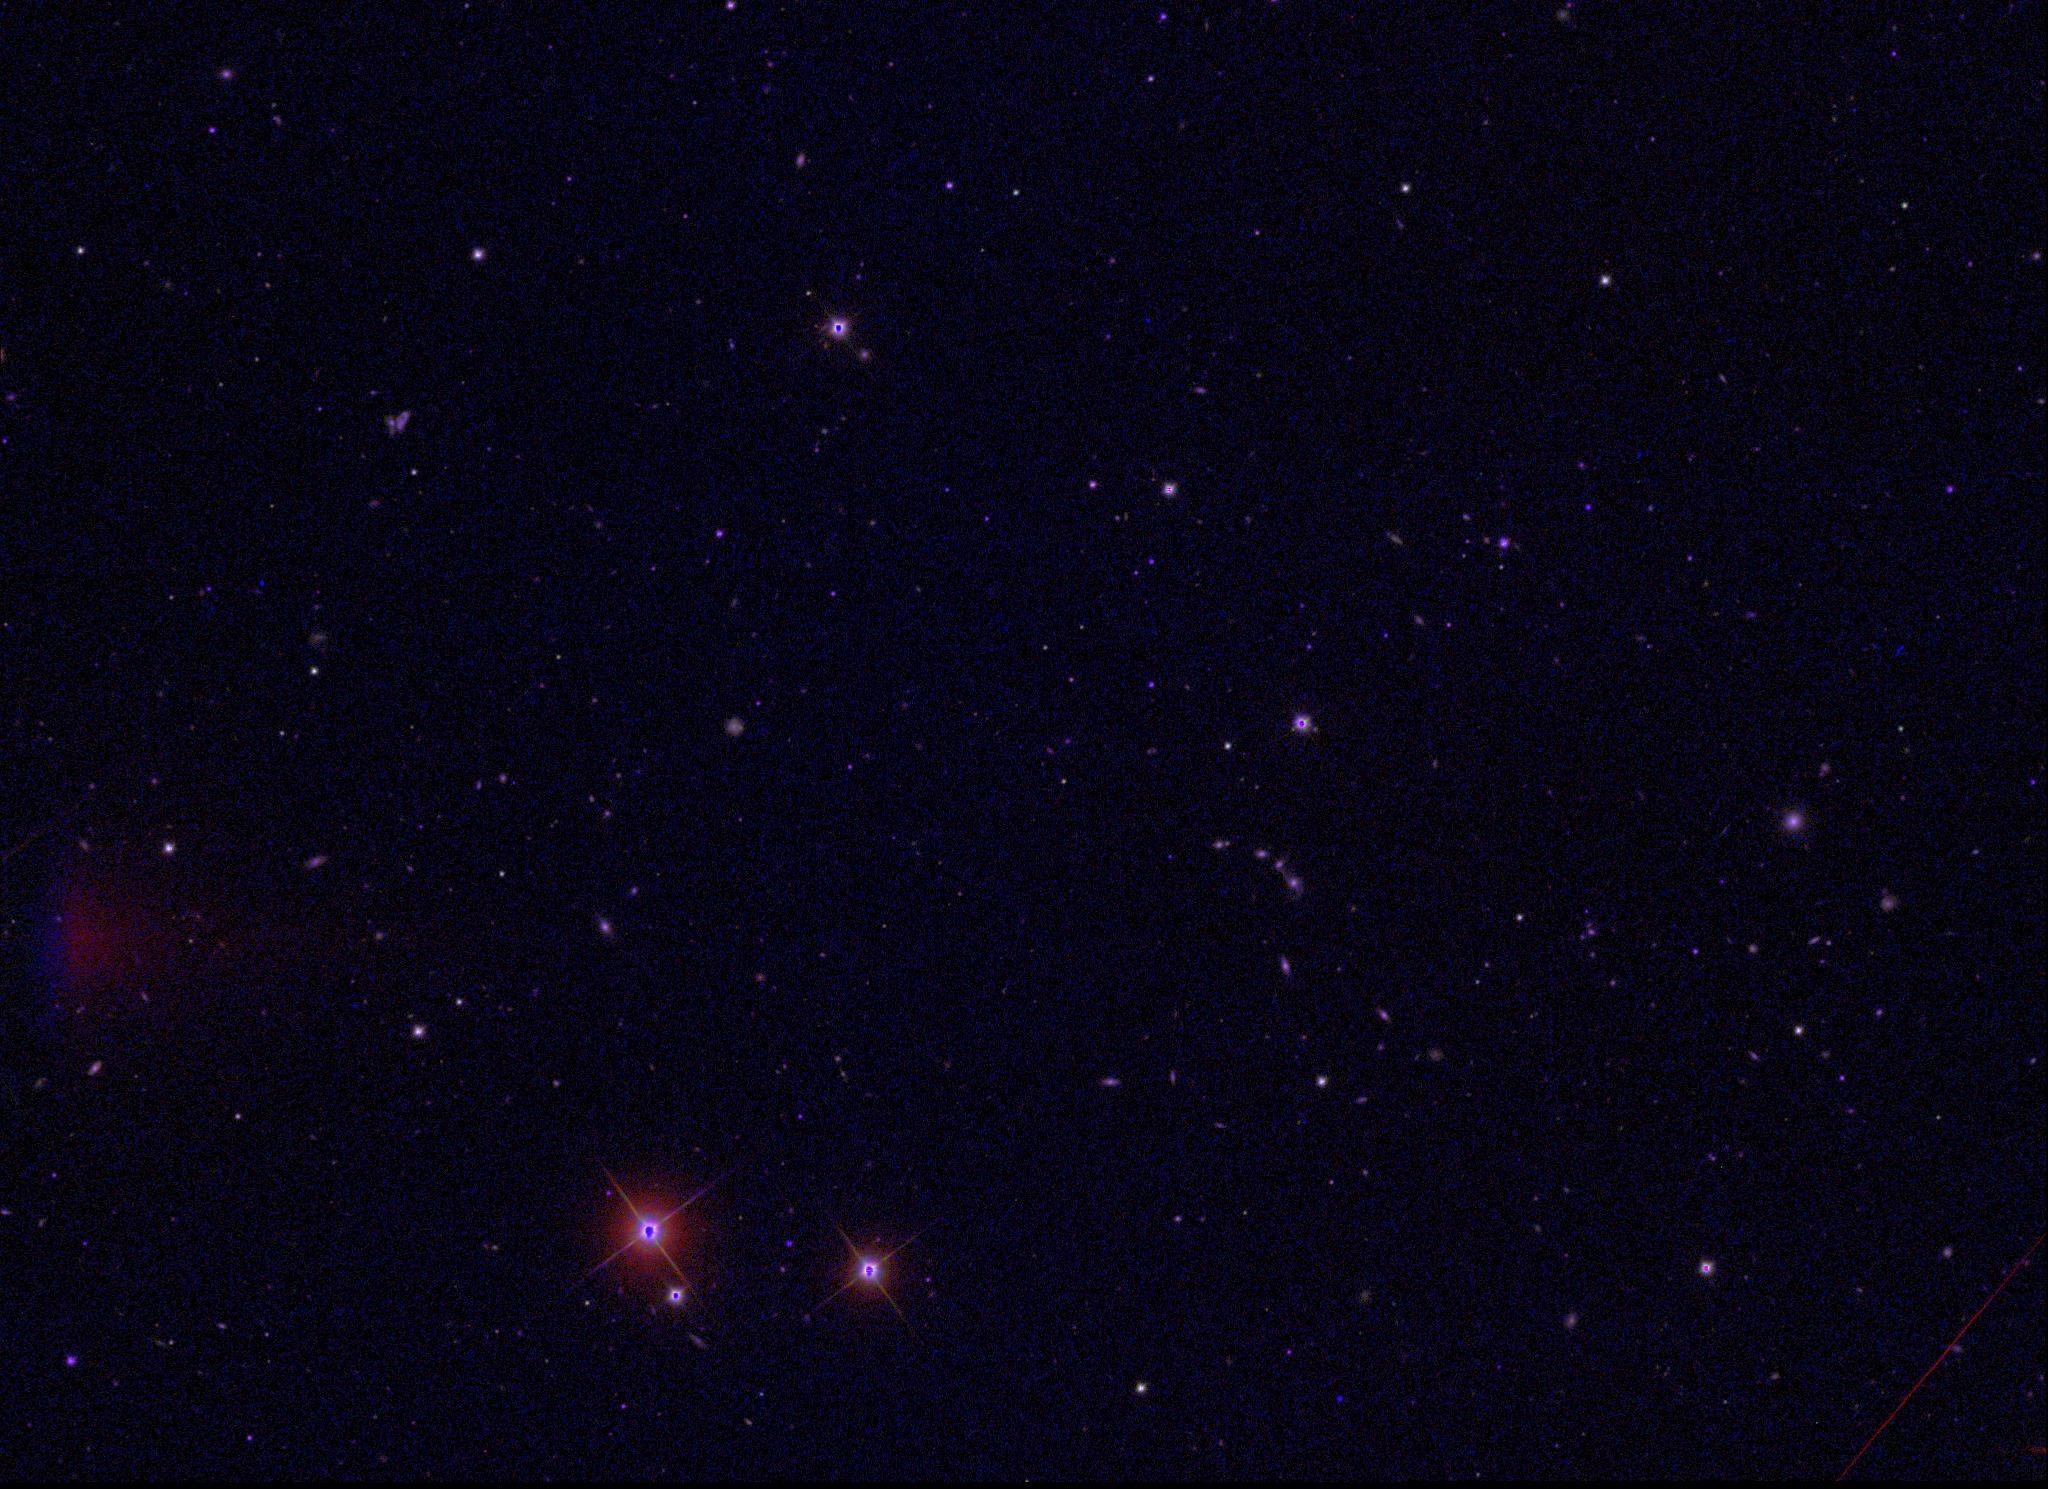L: (1336, 1392, 1348, 1406)
